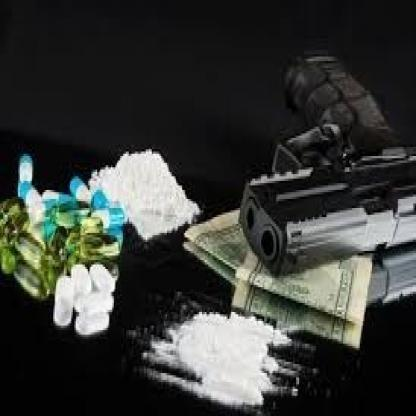Pistol: (236, 45, 415, 283)
